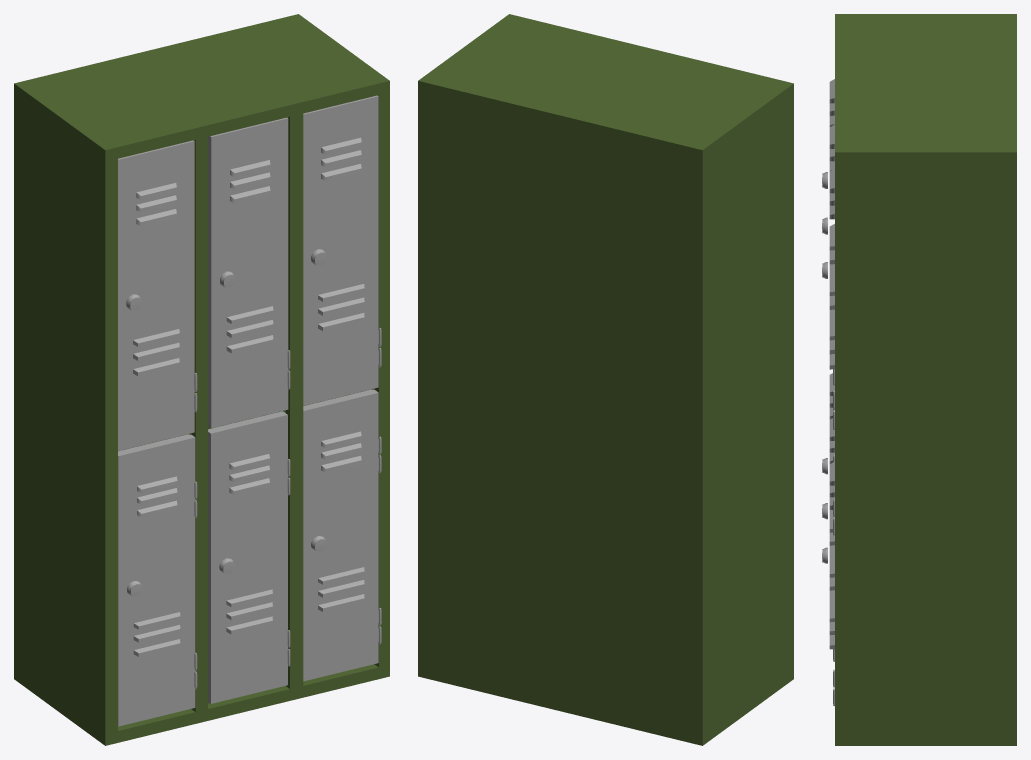
File: Locker_SmallPivoted.fbx
The picture shows the model from 3 angles, left to right: view 1: azimuth 30°, elevation 25°; view 2: azimuth 150°, elevation 25°; view 3: azimuth 270°, elevation 25°; orthographic projection.
Parts seen in each view (by area): view 1: polySurface45, polySurface56, polySurface84, polySurface62, polySurface82, polySurface83, polySurface80; view 2: polySurface45; view 3: polySurface45, polySurface62, polySurface80, polySurface84, polySurface82, polySurface56, polySurface83.
Boxes of the visible parts, x1,y1,x2,y2 form: polySurface45: (14,14,389,745); polySurface56: (208,117,288,428); polySurface84: (118,140,194,450); polySurface62: (303,95,378,405); polySurface82: (208,411,287,703); polySurface83: (118,434,195,726); polySurface80: (303,389,378,681); polySurface45: (418,14,793,745); polySurface45: (835,14,1016,745); polySurface62: (822,169,834,369); polySurface80: (822,461,834,649); polySurface84: (822,79,834,271); polySurface82: (822,418,834,597); polySurface56: (829,124,834,315); polySurface83: (822,373,834,553).
Size of the model in its own units: 9 by 18 by 5.36.
